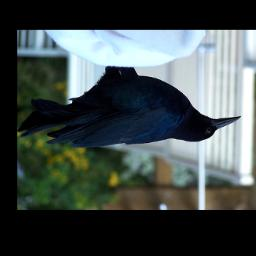Crow: (19, 67, 242, 149)
